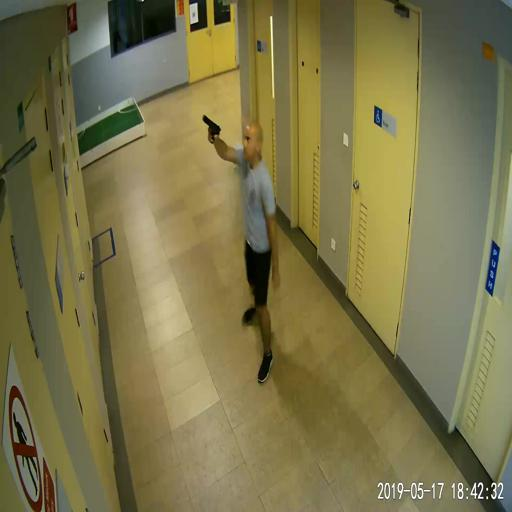pistol: (203, 114, 220, 144)
